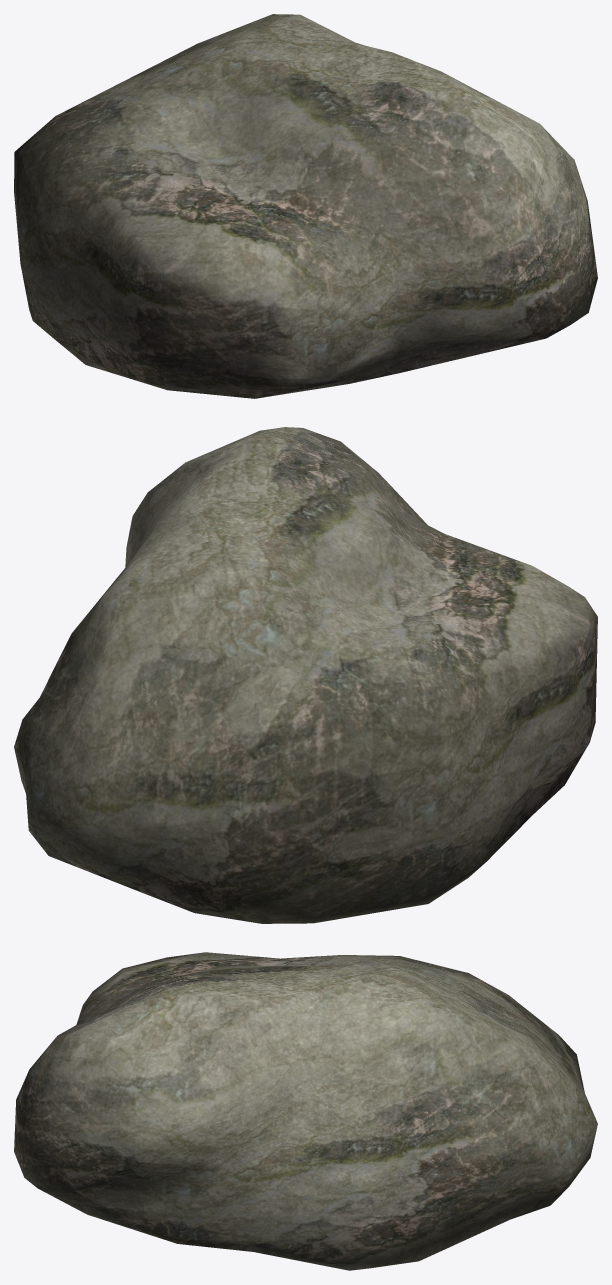
The model's file is Rock.001.obj.
3 renders of one model, top to bottom at view 1: azimuth 30°, elevation 25°; view 2: azimuth 150°, elevation 25°; view 3: azimuth 270°, elevation 25°, orthographic. The views are drawn at different scales.
Parts seen in each view (by area): view 1: Rock.001_Icosphere.001; view 2: Rock.001_Icosphere.001; view 3: Rock.001_Icosphere.001.
Boxes of the visible parts, bbox=[...] form: Rock.001_Icosphere.001: bbox=[14, 14, 597, 398]; Rock.001_Icosphere.001: bbox=[14, 427, 597, 923]; Rock.001_Icosphere.001: bbox=[14, 952, 597, 1270].
Size of the model in its own units: 6.03 by 3.79 by 7.68.
